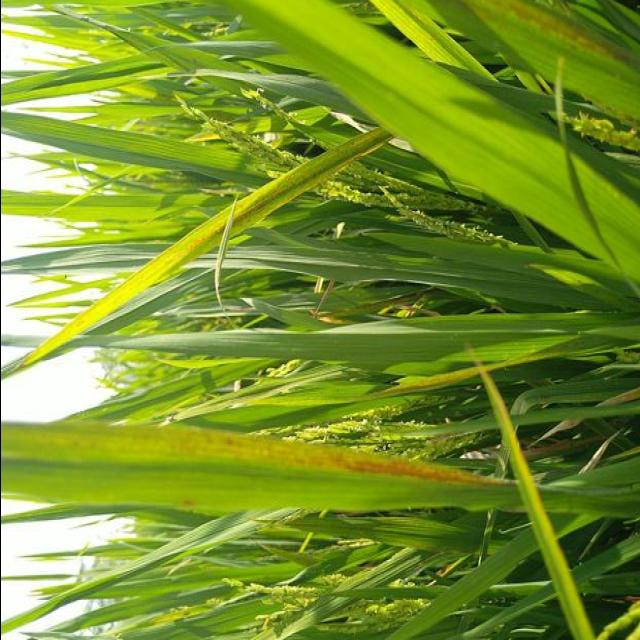Leaf Streak: (25, 127, 394, 360), (481, 378, 599, 640), (0, 428, 514, 487), (463, 0, 634, 59), (370, 371, 480, 399)
